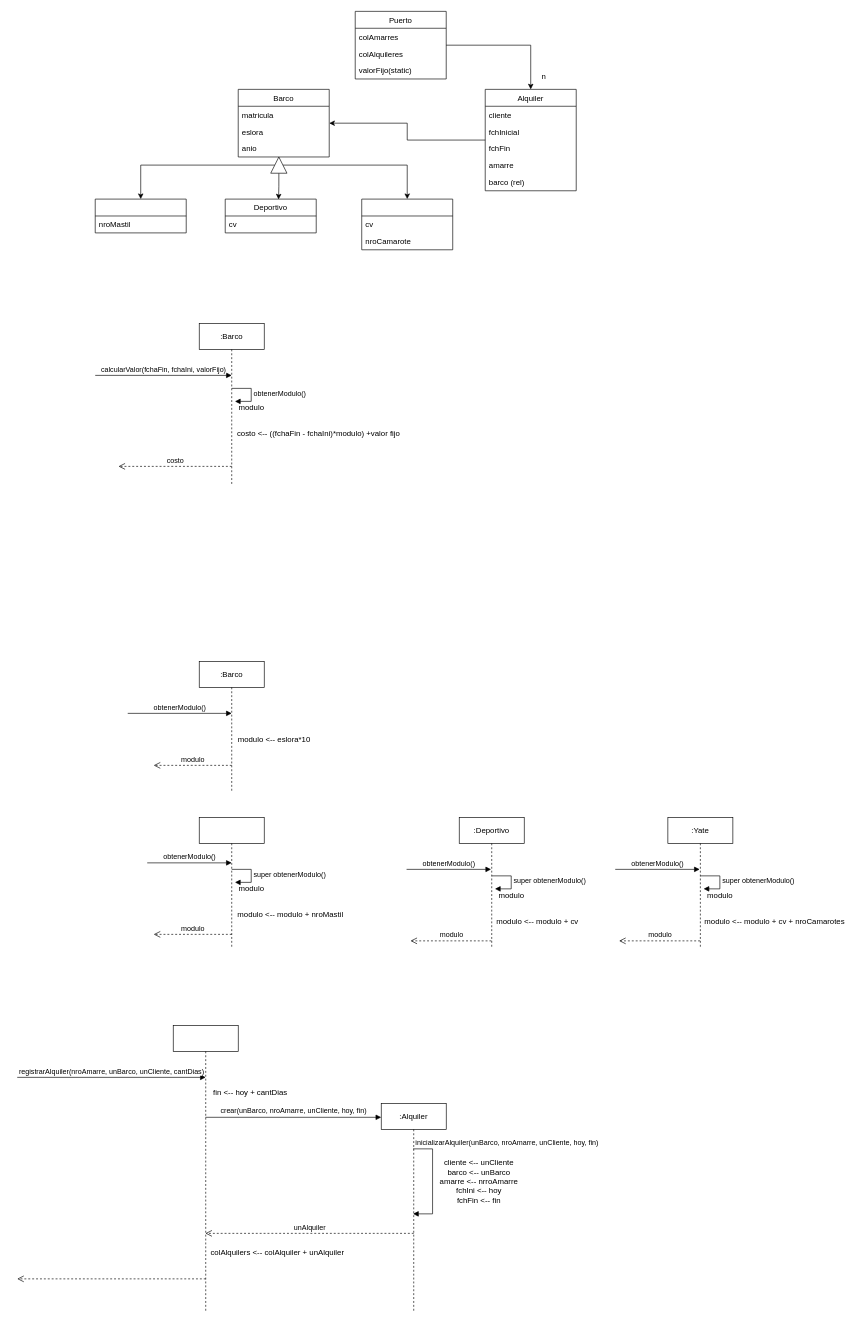
The diagram is 861 pixels wide and 1323 high, and some of its shapes have lost their labels. Each missing label, with the box of its shape:
:Puerto: (173, 1025, 238, 1311)
:Velero: (199, 817, 264, 947)
Velero: (95, 198, 186, 233)
Yate: (361, 198, 453, 250)
